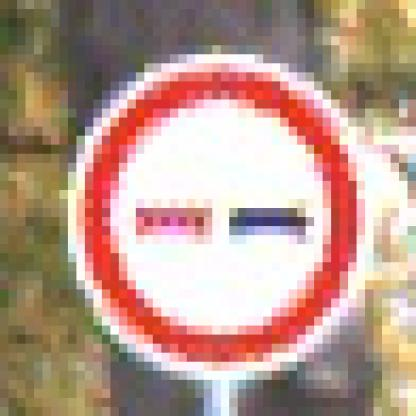No Overtaking: (52, 46, 366, 372)
